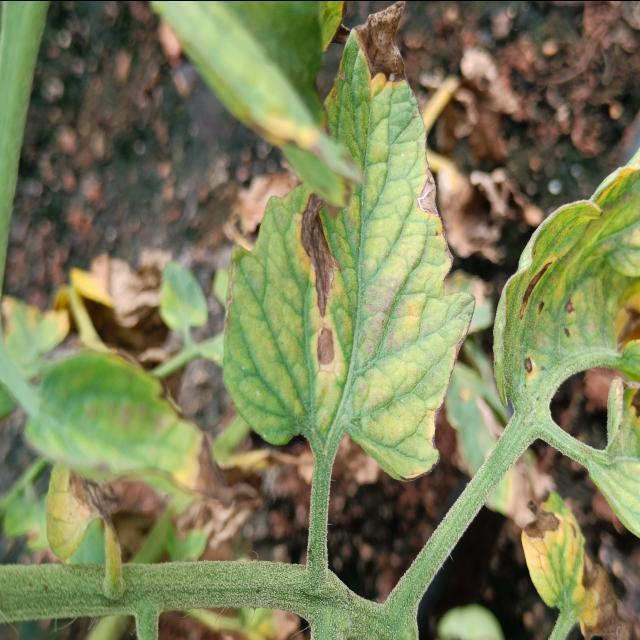Tomato mosaic virus leaf: (219, 1, 480, 488), (492, 212, 640, 414)
